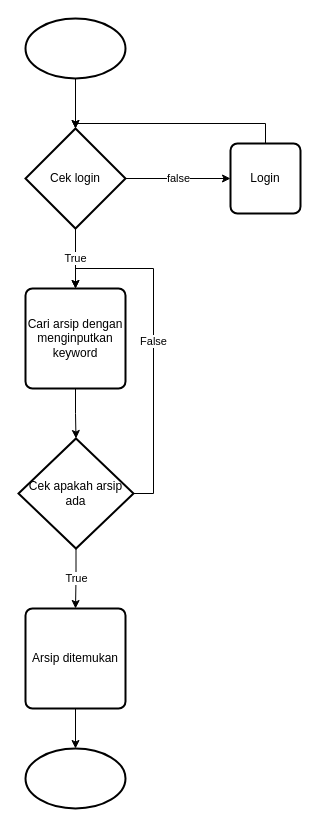
Some shapes in this 318 by 826 pixel diagram are drawn without their labels. The shapes that lost their labels are listed below. From the top down, each one's centre as x and y in pixels, then its label:
At point 75,48: "START".
At point 75,778: "STOP".
